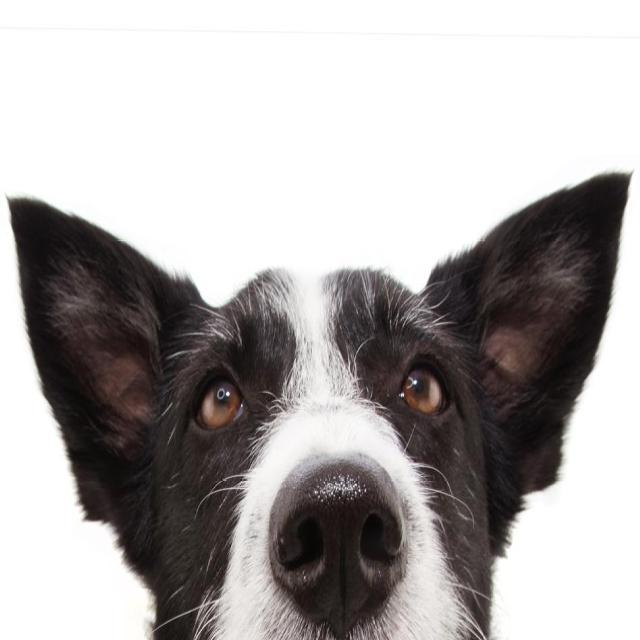Dog: (0, 164, 639, 640)
